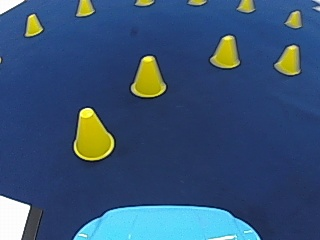cone: (72, 107, 113, 160), (130, 54, 166, 98), (210, 34, 241, 68), (274, 44, 301, 75), (23, 13, 43, 36), (284, 10, 302, 28), (75, 0, 94, 16), (237, 0, 254, 12)
